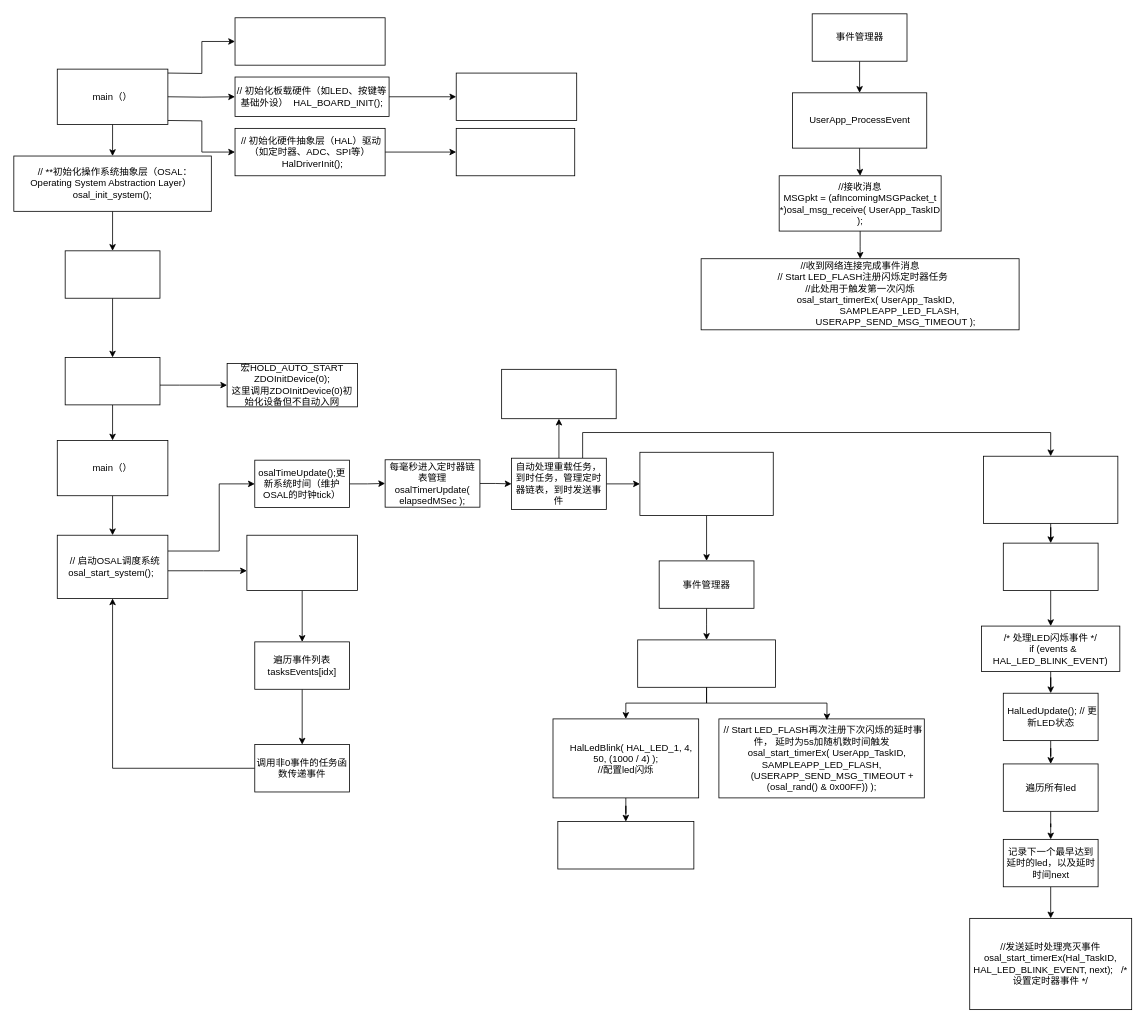
This 1146x1024 diagram has some shape labels left out. The shapes that lost their labels are listed below. From the top down, each one's centre as x and y in pixels, then its label:
At (x=309, y=41): "// 冷初始化（硬件初始化）板载I/O（如GPIO、外设时钟等） InitBoard( OB_COLD );".
At (x=516, y=96): "/* 配置LEDGPIO方向 */ /* 配置三态输入PUSH2按钮引脚引脚（高阻态）*/".
At (x=515, y=152): "//抽象层led状态全部关闭 HalLedInit();".
At (x=112, y=274): "//分配任务函数id,初始化定义的任务 osalInitTasks();".
At (x=112, y=381): "SampleApp_Init( taskID ); // 初始化用户应用（最后一个任务）".
At (x=558, y=394): "osal_set_event( freeTimer->task_id, freeTimer->event_flag );".
At (x=706, y=483): "等待定时事件到达，自动发送 SAMPLEAPP_LED_FLASH事件".
At (x=1050, y=489): "等待定时事件到达自动发送HAL_LED_BLINK_EVENT事件".
At (x=301, y=562): "osal_run_system(); // 调用OSAL调度器核心函数，处理任务事件".
At (x=1050, y=566): "Hal_ProcessEvent".
At (x=706, y=663): "UserApp_ProcessEvent收到事件".
At (x=625, y=845): "//配置好闪烁功能后发送事件 osal_set_event (Hal_TaskID, HAL_LED_BLINK_EVENT); // 设置新的闪烁事件".
